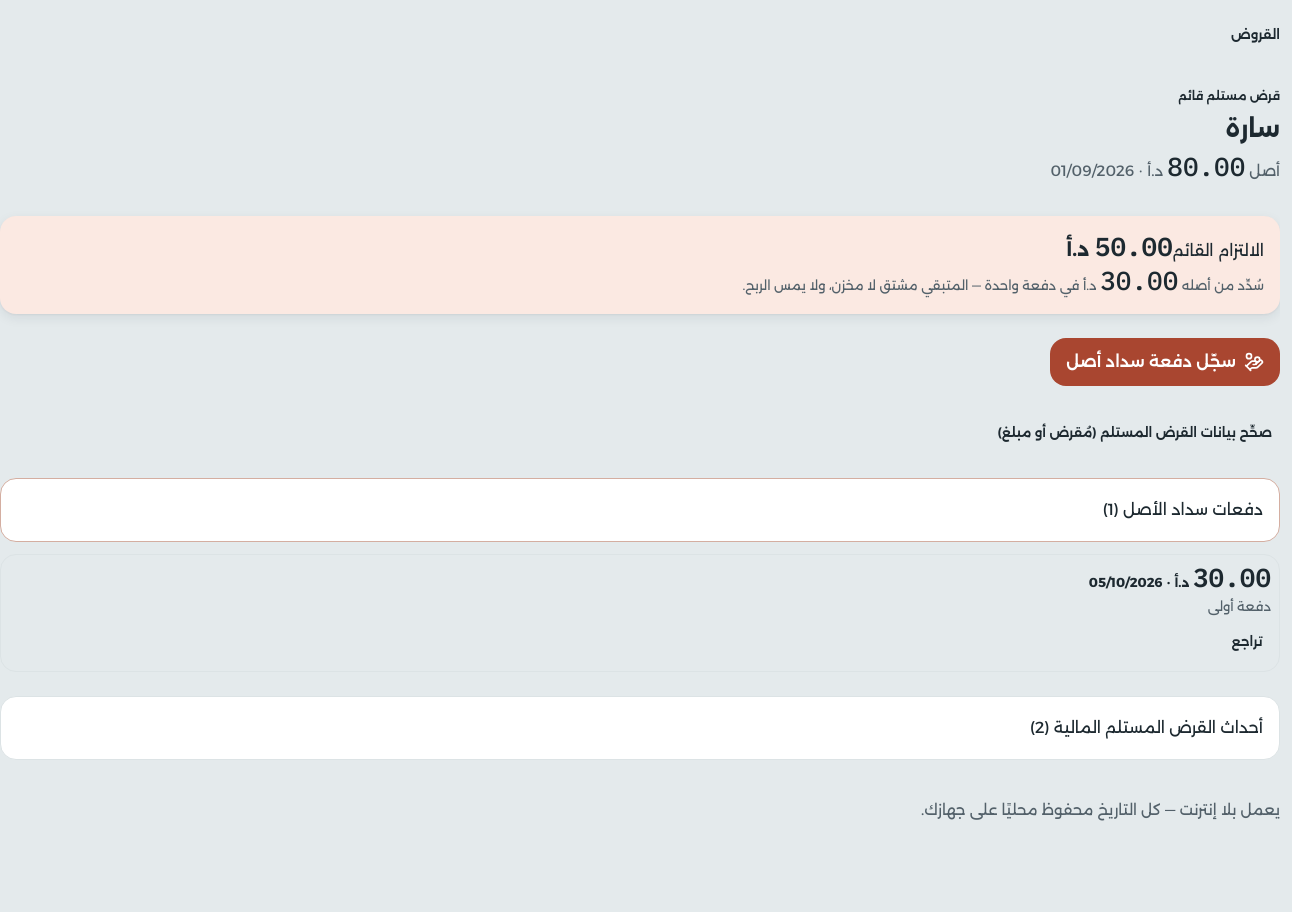
Test: ReceivedLoanDetail — direct page-boundary behavior (R9-W3) › reverses a recorded repayment inline and restores the outstanding commitment
Check: the heading "سارة" is shown, box [1225, 114, 1280, 143]
Click the button "تراجع": (1247, 641) [1223, 619, 1271, 663]
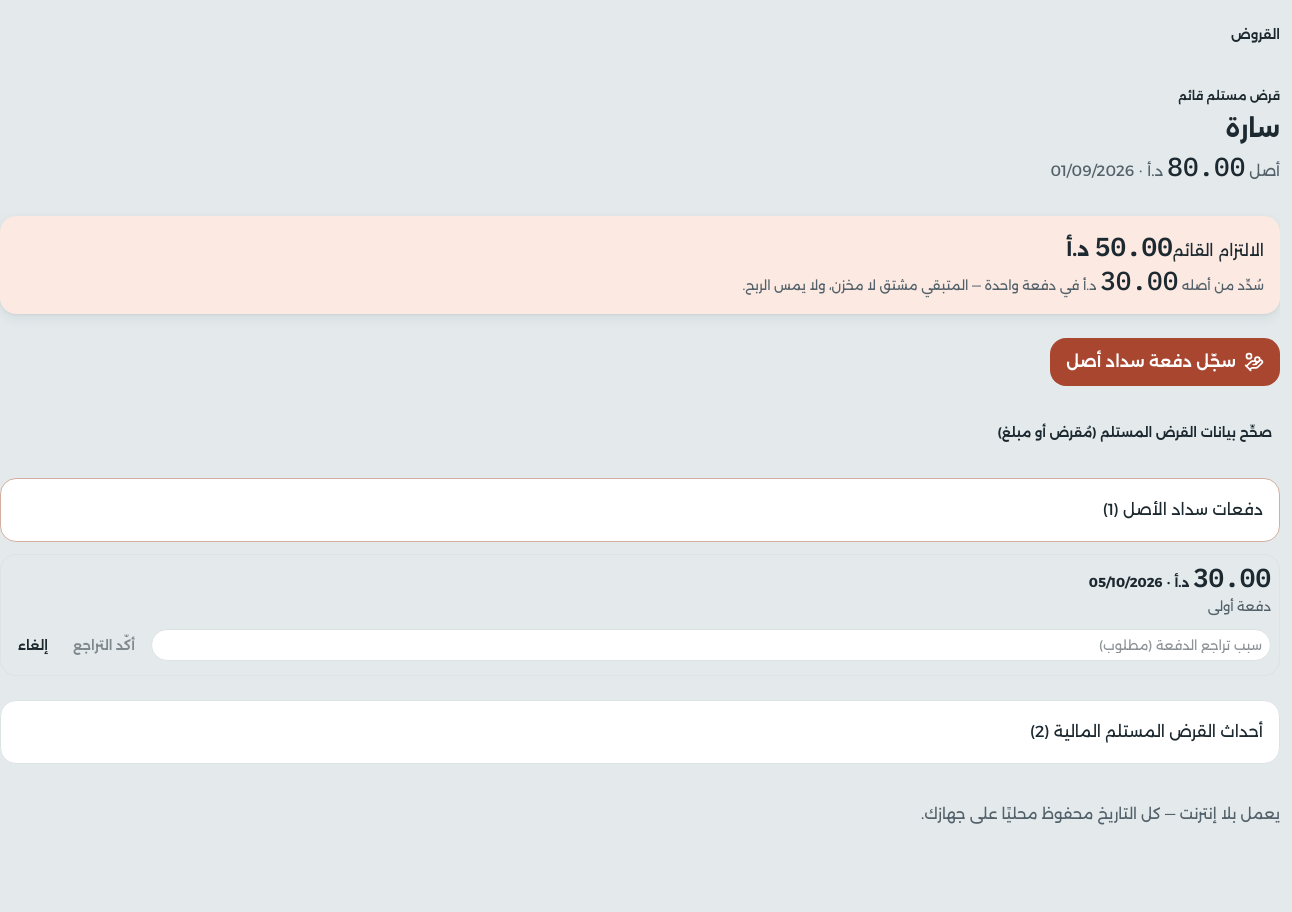
In the field labelled "سبب تراجع الدفعة": (711, 645) [151, 629, 1271, 661], type "دفعة مسجلة بالخطأ"
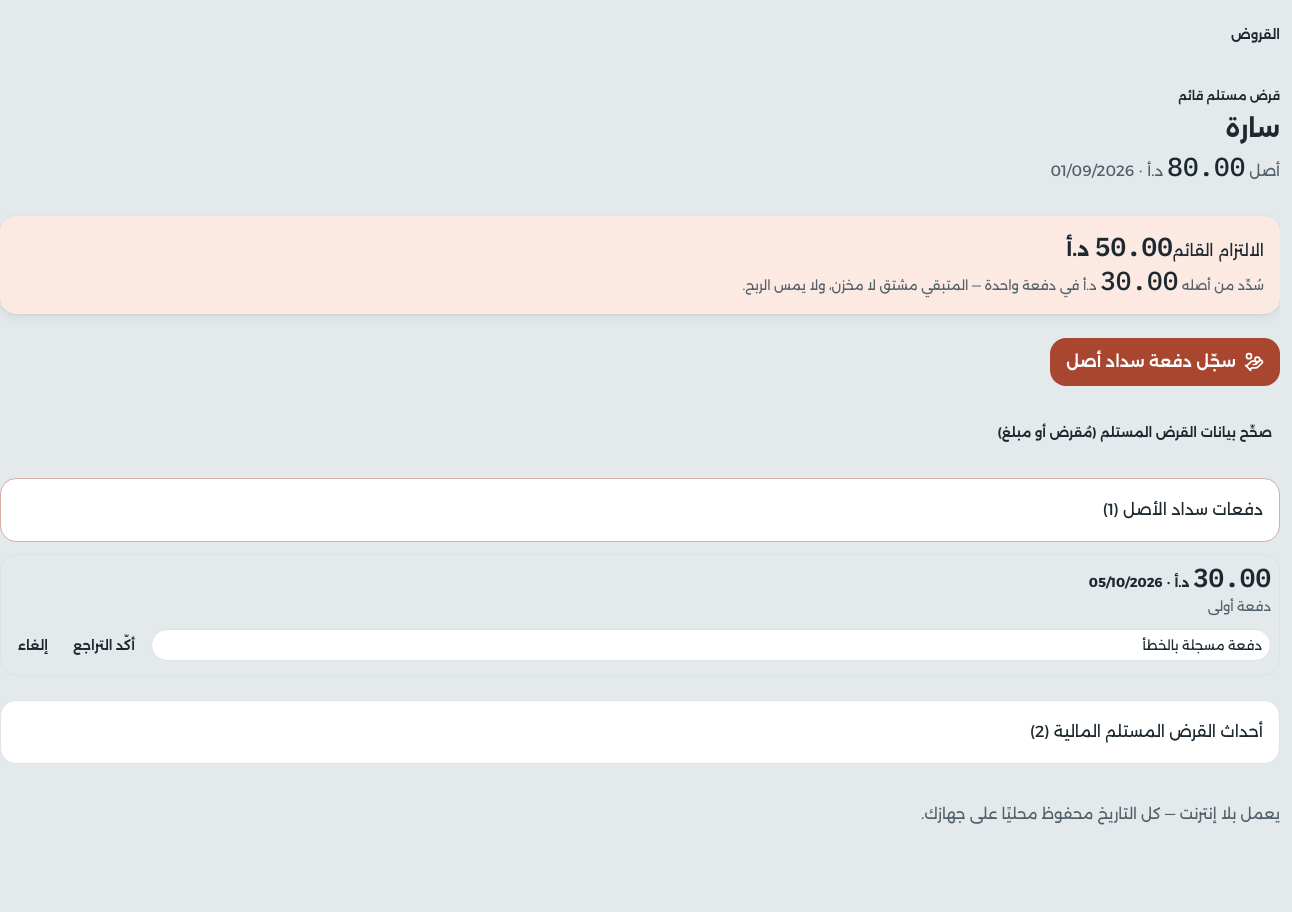
Click the button "أكّد التراجع": (104, 645) [65, 623, 143, 667]
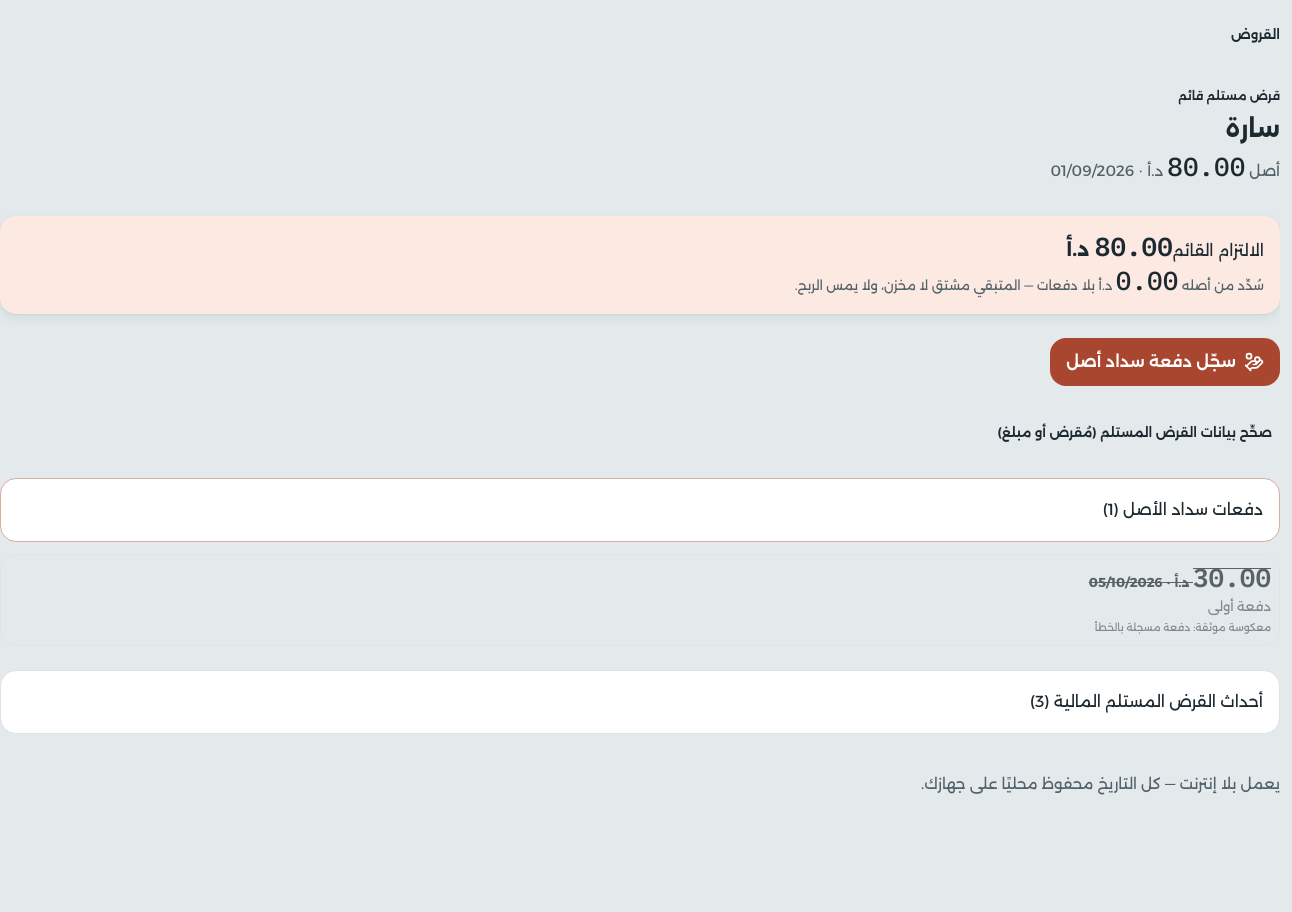
Check: the text "80.00" is shown, box [1167, 150, 1245, 184]
Check: the text "معكوسة موثقة: دفعة مسجلة بالخطأ" is shown, box [1095, 621, 1271, 634]
